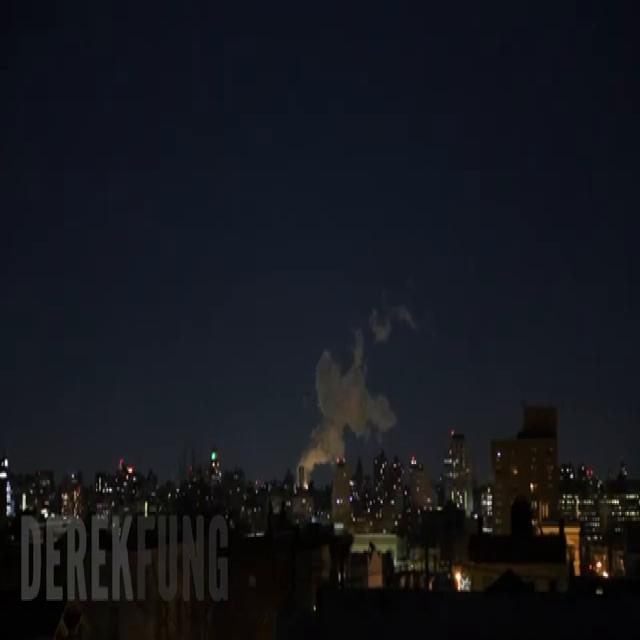smoke: (298, 331, 396, 485)
